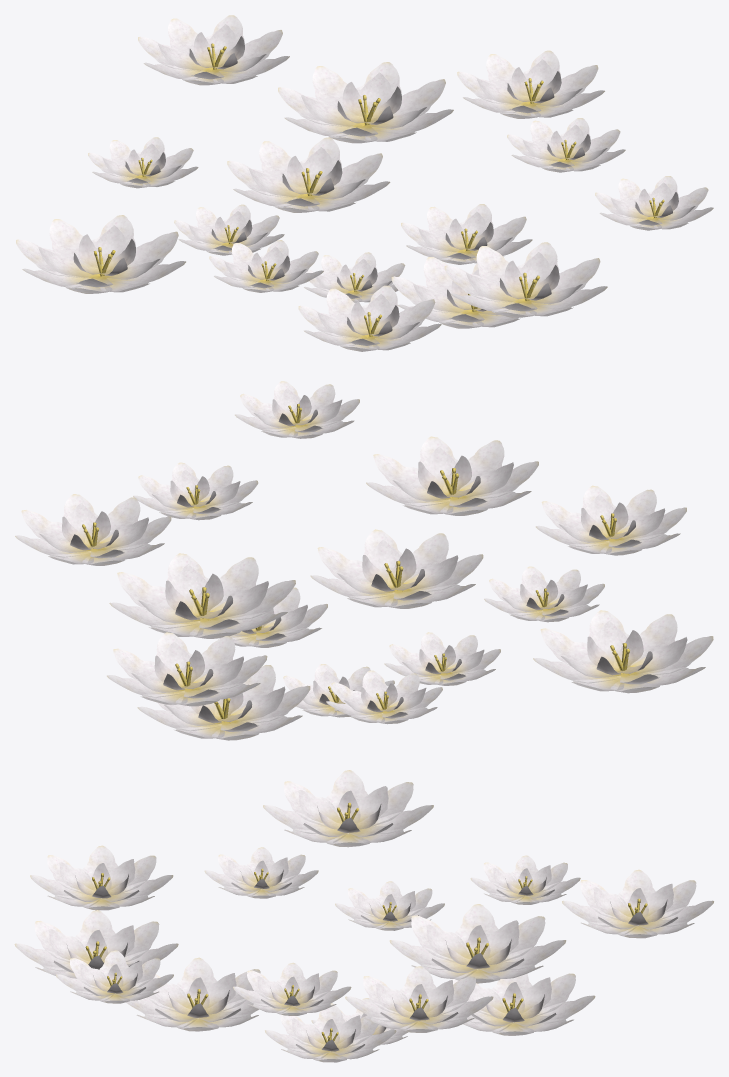
Rendered from SM_Lotus_03.fbx.
3 views of the same model, one above another, from view 1: azimuth 30°, elevation 25°; view 2: azimuth 150°, elevation 25°; view 3: azimuth 270°, elevation 25° (orthographic). The views are drawn at different scales.
Visible parts, largest first — view 1: SM_Lotus_03_LOD0; view 2: SM_Lotus_03_LOD0; view 3: SM_Lotus_03_LOD0.
Part boxes in pixels (<box>): SM_Lotus_03_LOD0: <box>16,15,713,351</box>; SM_Lotus_03_LOD0: <box>15,381,713,740</box>; SM_Lotus_03_LOD0: <box>14,770,713,1062</box>.
Size of the model in its own units: 91.9 by 95 by 21.78.
1 material, 1 textured.
